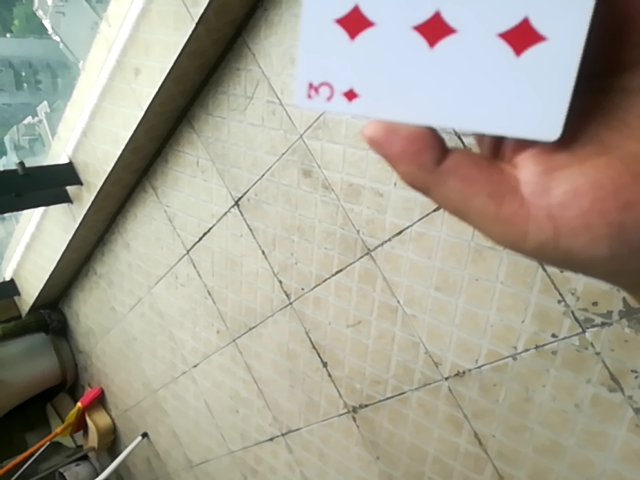fk 3: (286, 1, 606, 148)
